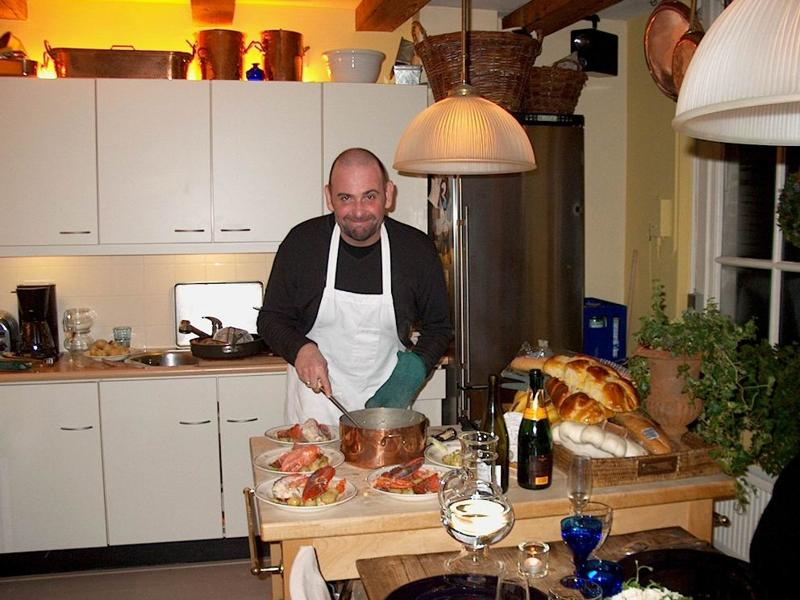person: (257, 147, 448, 427)
